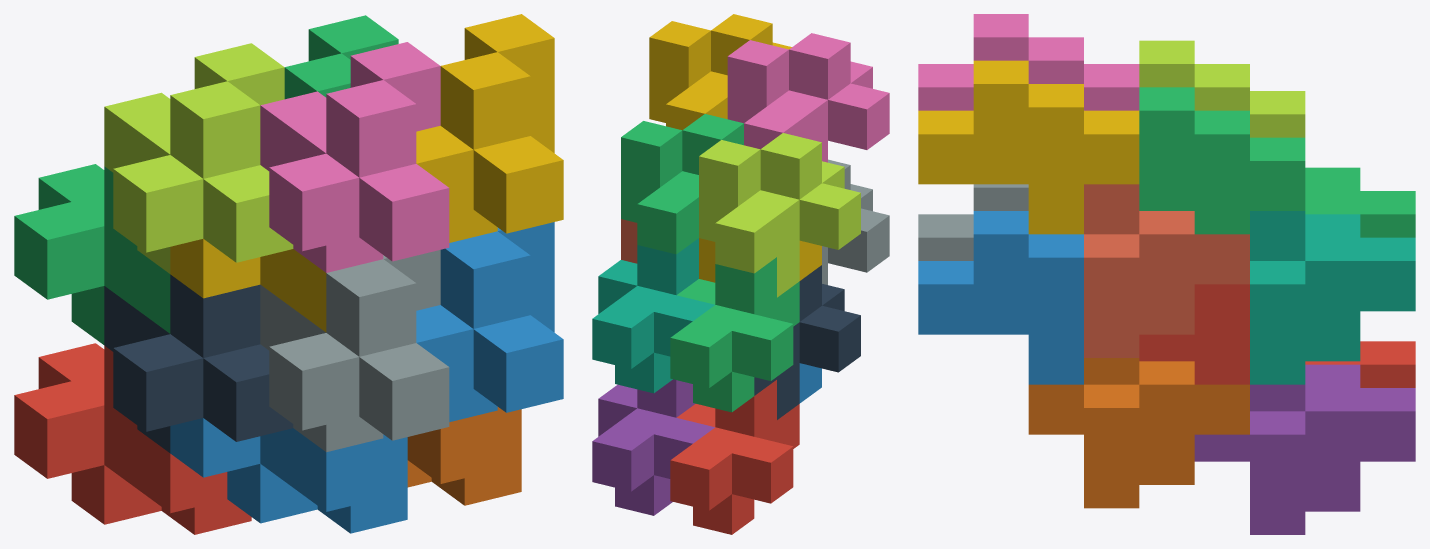
File: tiling.obj
3 renders of one model, left to right at view 1: azimuth 30°, elevation 25°; view 2: azimuth 150°, elevation 25°; view 3: azimuth 270°, elevation 25°, orthographic. The views are drawn at different scales.
Parts seen in each view (by area): view 1: copy_2_domain_4, copy_2_domain_3, copy_2_domain_2, copy_2_domain_8, copy_2_domain_6, copy_1_domain_1, copy_2_domain_1, copy_1_domain_2, copy_1_domain_3, copy_1_domain_6, copy_1_domain_4, copy_2_domain_7; view 2: copy_2_domain_3, copy_2_domain_4, copy_1_domain_3, copy_1_domain_1, copy_1_domain_7, copy_1_domain_5, copy_2_domain_7, copy_2_domain_8, copy_2_domain_1, copy_2_domain_2, copy_1_domain_4, copy_1_domain_2 (+1 smaller); view 3: copy_2_domain_8, copy_1_domain_5, copy_1_domain_7, copy_1_domain_6, copy_1_domain_8, copy_2_domain_6, copy_2_domain_7, copy_2_domain_4, copy_2_domain_3, copy_2_domain_5, copy_1_domain_3, copy_2_domain_2 (+1 smaller).
Boxes of the visible parts, x1,y1,x2,y2 form: copy_2_domain_4: [260, 42, 449, 272]; copy_2_domain_3: [104, 43, 293, 273]; copy_2_domain_2: [260, 250, 449, 452]; copy_2_domain_8: [416, 14, 563, 242]; copy_2_domain_6: [416, 222, 563, 421]; copy_1_domain_1: [14, 343, 251, 534]; copy_2_domain_1: [104, 274, 293, 452]; copy_1_domain_2: [170, 418, 407, 533]; copy_1_domain_3: [14, 164, 170, 344]; copy_1_domain_6: [407, 407, 521, 505]; copy_1_domain_4: [170, 238, 326, 332]; copy_2_domain_7: [284, 15, 398, 99]; copy_2_domain_3: [699, 133, 860, 297]; copy_2_domain_4: [727, 33, 889, 162]; copy_1_domain_3: [670, 257, 799, 412]; copy_1_domain_1: [670, 380, 799, 534]; copy_1_domain_7: [592, 238, 714, 393]; copy_1_domain_5: [592, 379, 714, 515]; copy_2_domain_7: [621, 114, 743, 254]; copy_2_domain_8: [649, 14, 791, 130]; copy_2_domain_1: [754, 265, 860, 419]; copy_2_domain_2: [822, 159, 889, 284]; copy_1_domain_4: [699, 238, 821, 282]; copy_1_domain_2: [799, 363, 821, 403]; copy_2_domain_8: [918, 60, 1139, 234]; copy_1_domain_5: [1194, 364, 1415, 534]; copy_1_domain_7: [1250, 211, 1415, 384]; copy_1_domain_6: [1028, 358, 1249, 508]; copy_1_domain_8: [1084, 184, 1249, 357]; copy_2_domain_6: [918, 211, 1083, 384]; copy_2_domain_7: [1139, 87, 1305, 234]; copy_2_domain_4: [918, 14, 1139, 110]; copy_2_domain_3: [1139, 40, 1305, 137]; copy_2_domain_5: [1139, 284, 1249, 384]; copy_1_domain_3: [1305, 167, 1415, 237]; copy_2_domain_2: [918, 184, 1028, 260].
Size of the model in its own units: 6 by 9 by 9.
